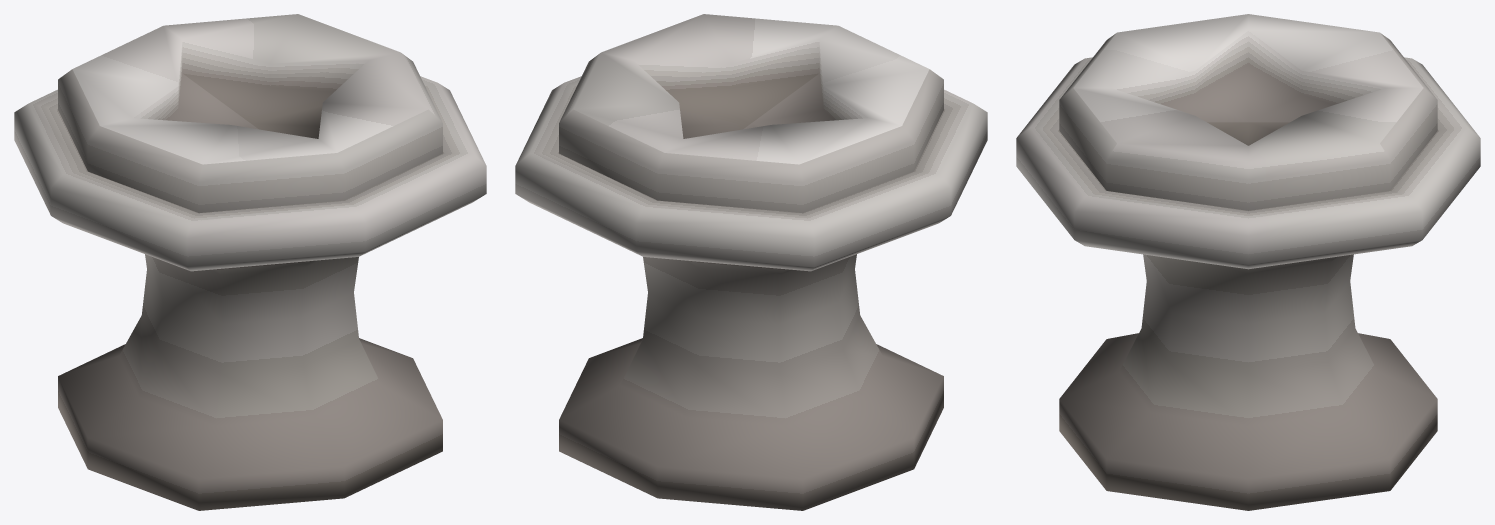
Rendered from DL_Obj_Level5_AltarDiamond.fbx.
The picture shows the model from 3 angles, left to right: view 1: azimuth 30°, elevation 25°; view 2: azimuth 150°, elevation 25°; view 3: azimuth 270°, elevation 25°; orthographic projection.
Parts seen in each view (by area): view 1: Level5_AltarDiamond; view 2: Level5_AltarDiamond; view 3: Level5_AltarDiamond.
Boxes of the visible parts, bbox=[...] form: Level5_AltarDiamond: bbox=[14, 14, 486, 510]; Level5_AltarDiamond: bbox=[515, 14, 987, 510]; Level5_AltarDiamond: bbox=[1016, 14, 1480, 510].
Size of the model in its own units: 123 by 100 by 123.
